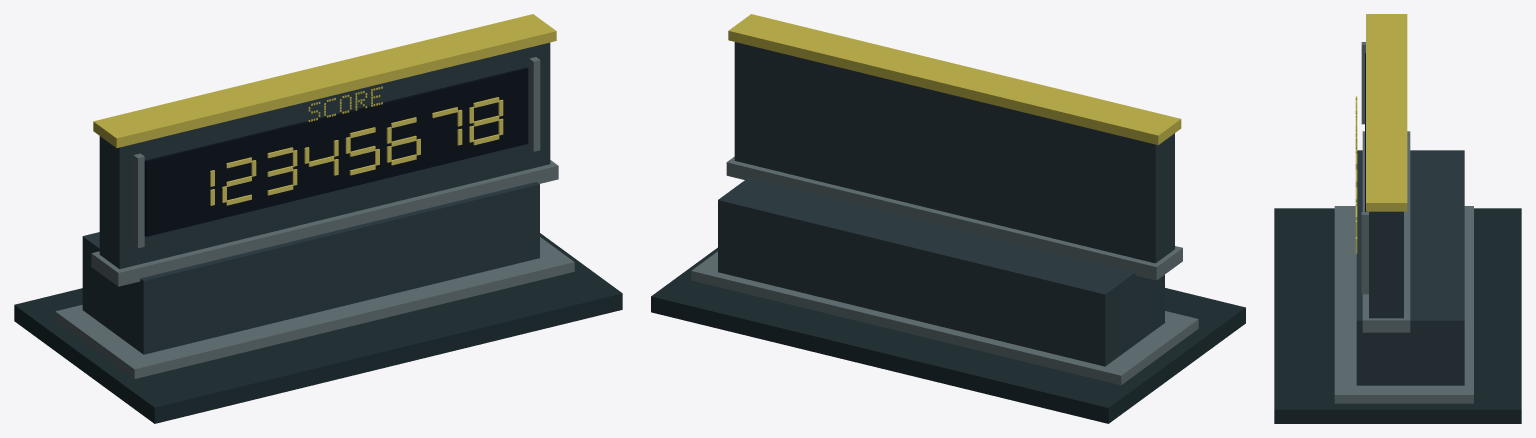
Rendered from flipdot_scoreboard_d0_lod2.glb.
3 renders of one model, left to right at view 1: azimuth 30°, elevation 25°; view 2: azimuth 150°, elevation 25°; view 3: azimuth 270°, elevation 25°, orthographic. The views are drawn at different scales.
Visible parts, largest first — view 1: SCOREBOARD_DISTANCE_GEOMETRY; view 2: SCOREBOARD_DISTANCE_GEOMETRY; view 3: SCOREBOARD_DISTANCE_GEOMETRY.
Boxes of the visible parts, box(x1,y1,x2,y2) form: SCOREBOARD_DISTANCE_GEOMETRY: box(14, 14, 622, 423); SCOREBOARD_DISTANCE_GEOMETRY: box(651, 14, 1245, 423); SCOREBOARD_DISTANCE_GEOMETRY: box(1274, 14, 1521, 423).
Bounding box in the file's own units: 7.5 × 3.73 × 3.9.
